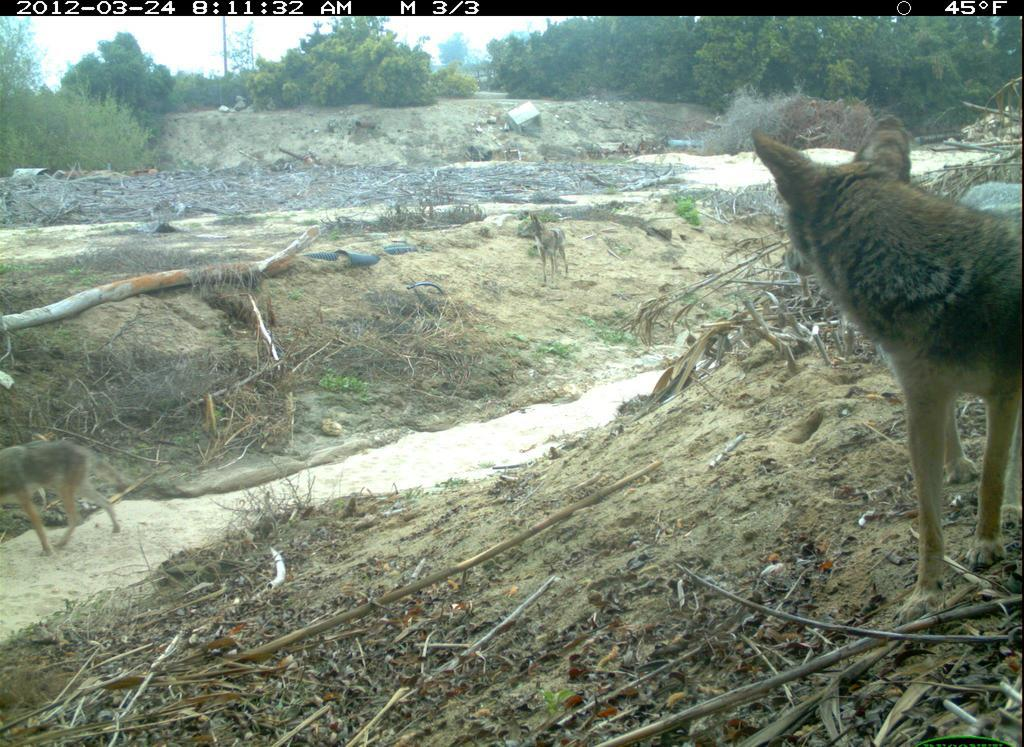coyote: (754, 111, 1023, 624), (2, 419, 129, 559), (520, 209, 579, 291)
